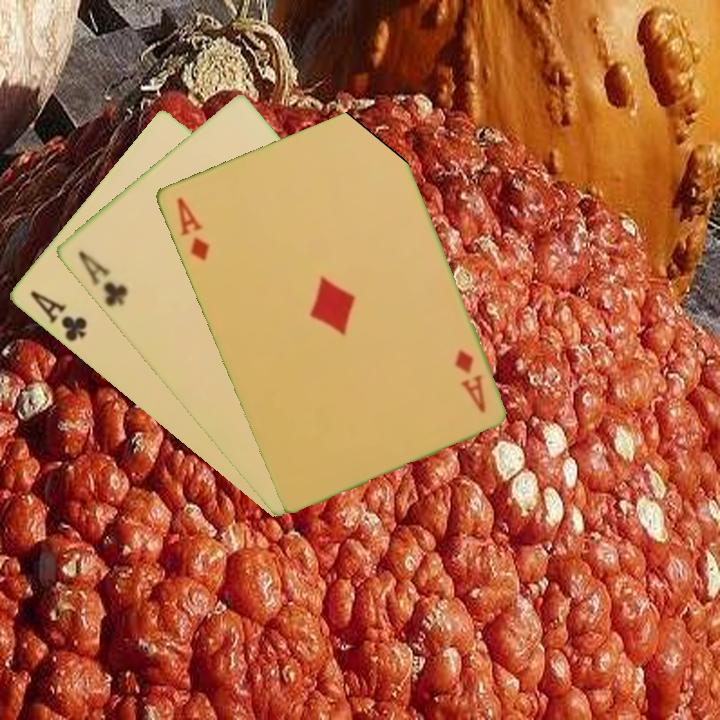Ac: (25, 286, 90, 345), (73, 247, 131, 310)
Ad: (172, 194, 212, 263), (450, 345, 488, 417)
